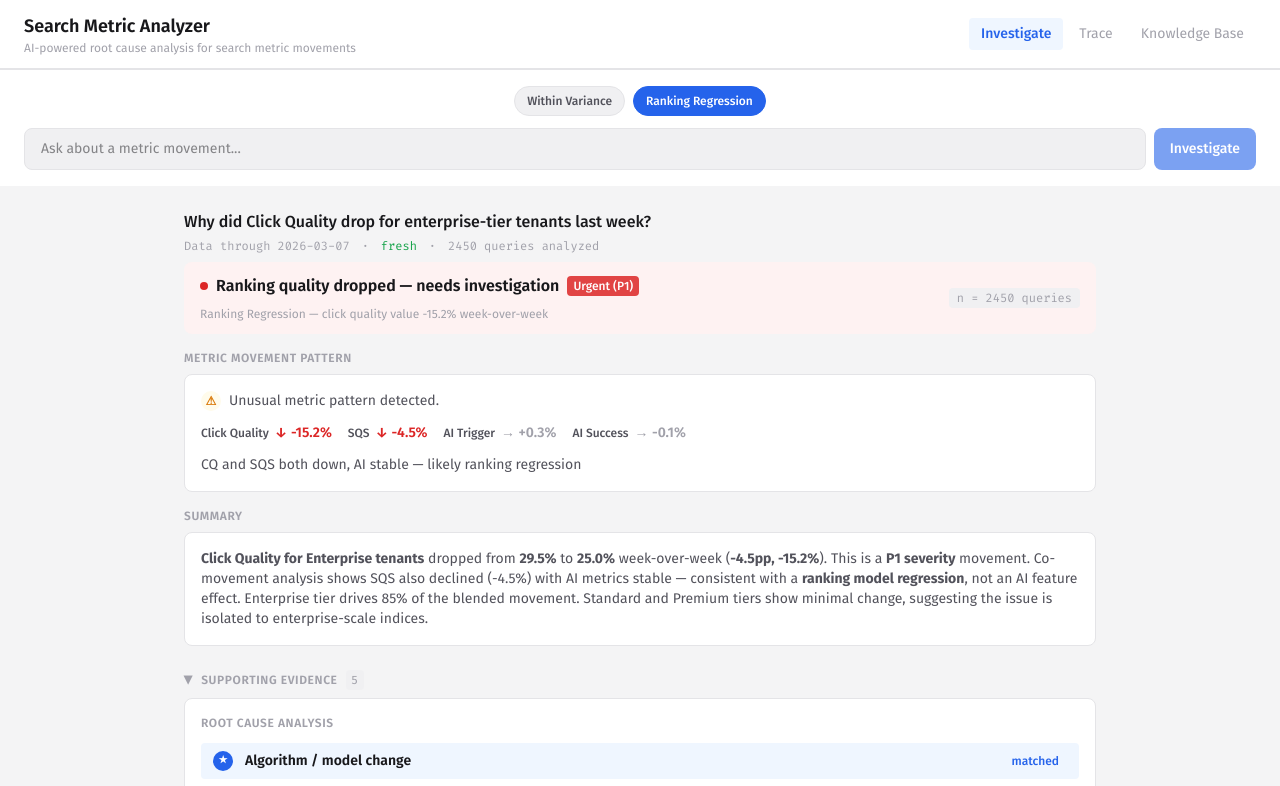
it: App › switches to Knowledge Base tab when KB button is clicked
This screenshot has width=1280, height=786.
Click the button "Knowledge Base" at (1192, 34), box left=1129, top=18, right=1256, bottom=50
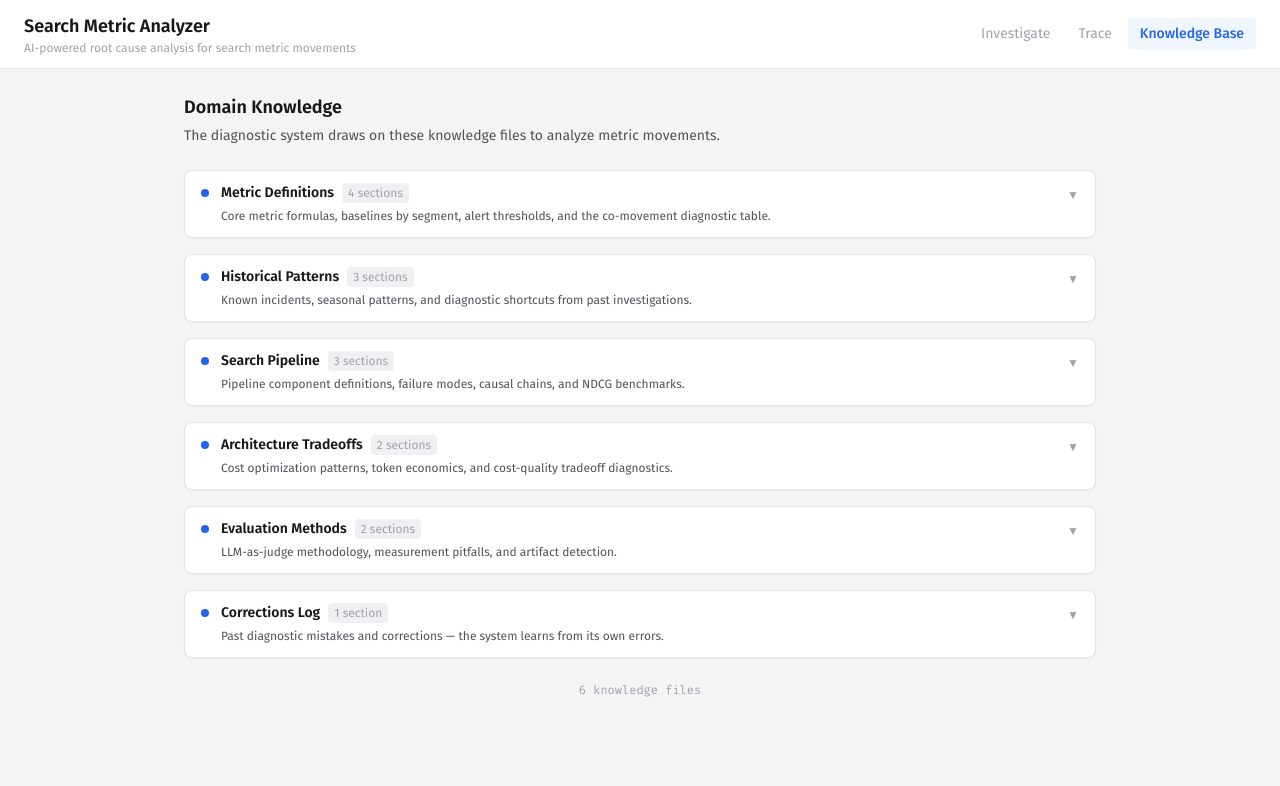
expect the heading "Domain Knowledge" is shown: met, box left=184, top=96, right=342, bottom=118
